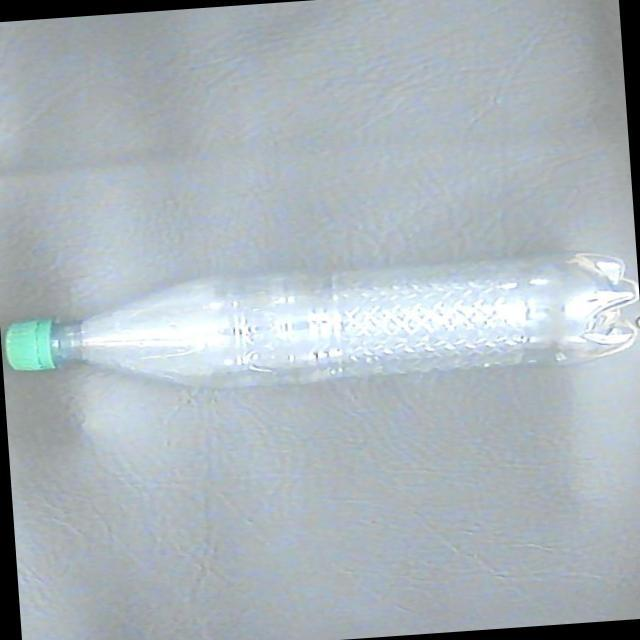good: (5, 244, 640, 412)
